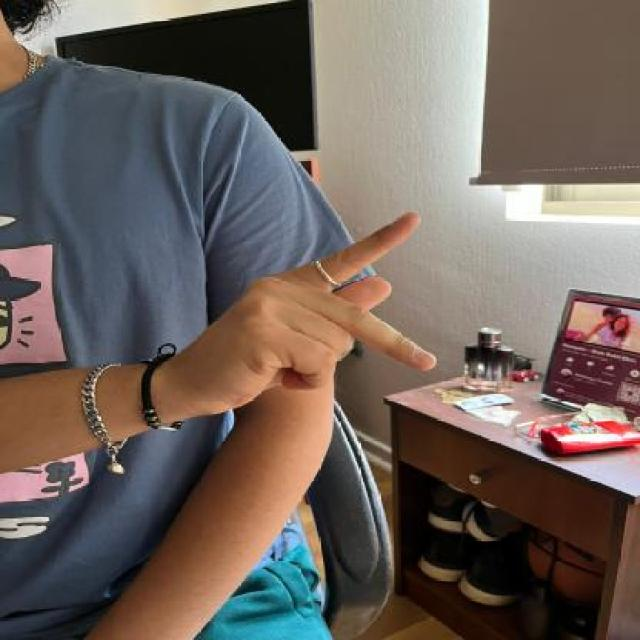K: (199, 192, 446, 410)
